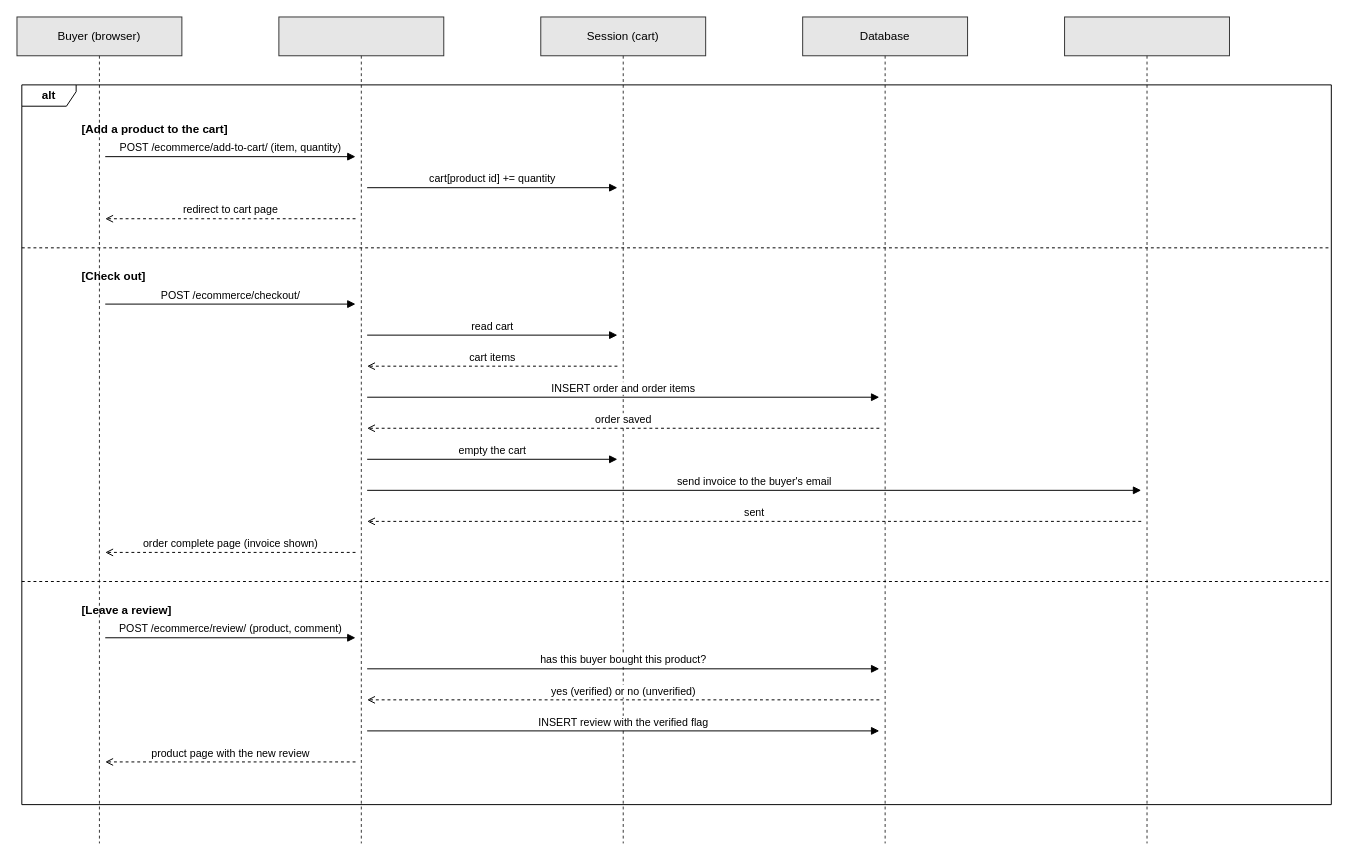
Some shapes in this 1349 by 860 pixel diagram are drawn without their labels. Here are the shapes that lost their labels. From the top down, the box of each, then its label:
(278, 16, 444, 843): Web app (views.py)
(1064, 16, 1229, 843): Email back end
